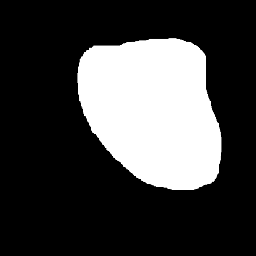mass: (73, 32, 218, 194)
